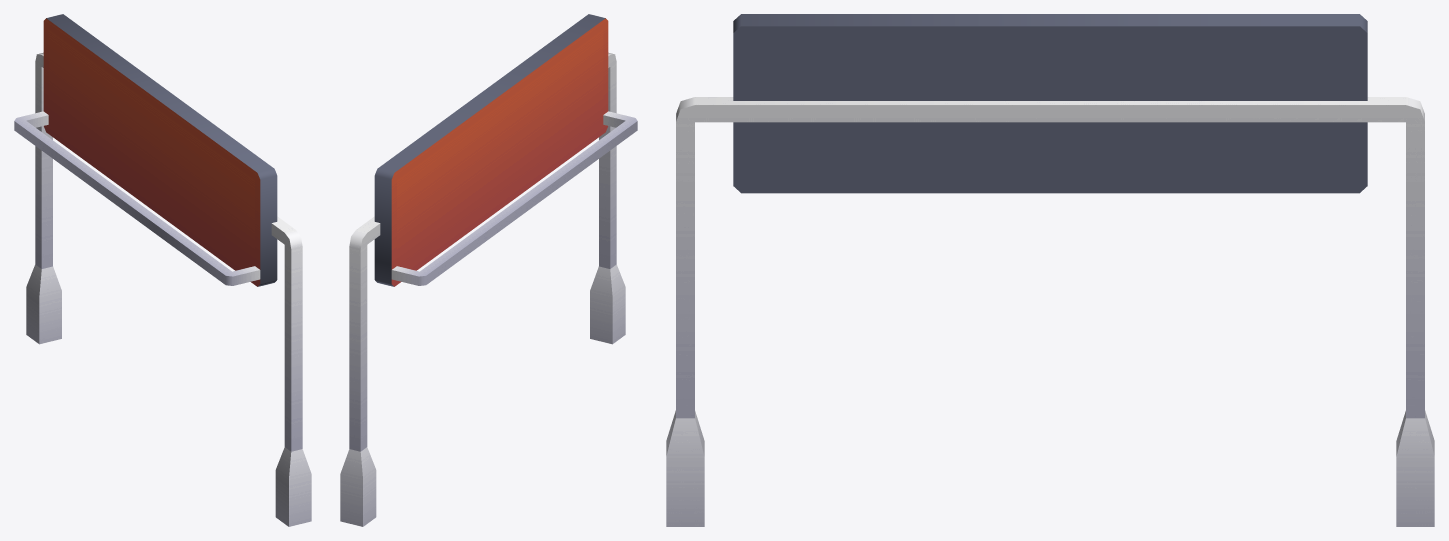
File: func-finish.glb
3 views of the same model, side by side, from view 1: azimuth 30°, elevation 25°; view 2: azimuth 150°, elevation 25°; view 3: azimuth 270°, elevation 25° (orthographic). The views are drawn at different scales.
Parts seen in each view (by area): view 1: finish; view 2: finish; view 3: finish.
Part boxes in pixels (box(x1,y1,x2,y2)): finish: box(14, 14, 311, 526); finish: box(340, 14, 637, 526); finish: box(666, 14, 1434, 526).
Size of what is drawn, in the model's own units: 0.1324 by 0.7074 by 1.
Materials: 1 (1 with a texture image).
